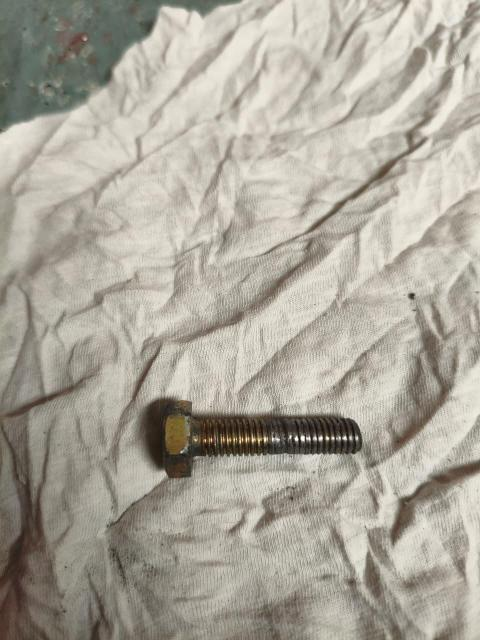Metal: (158, 398, 368, 480)
